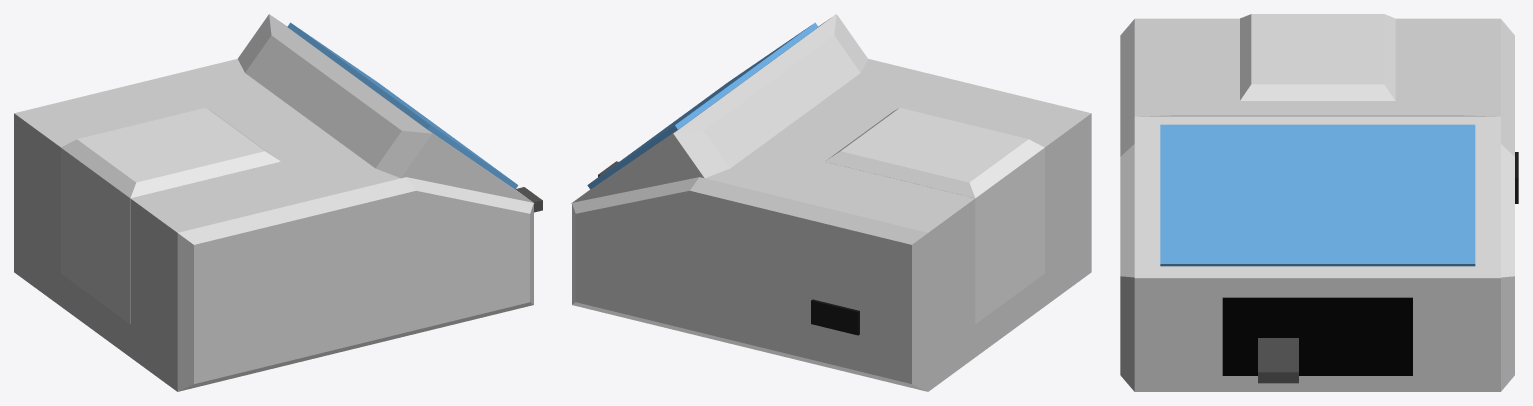
The model's file is Strip Reader.fbx.
The picture shows the model from 3 angles, left to right: view 1: azimuth 30°, elevation 25°; view 2: azimuth 150°, elevation 25°; view 3: azimuth 270°, elevation 25°; orthographic projection. The views are drawn at different scales.
Parts seen in each view (by area): view 1: Cube; view 2: Cube; view 3: Cube.
Boxes of the visible parts, x1,y1,x2,y2 form: Cube: [14, 14, 542, 391]; Cube: [571, 14, 1091, 391]; Cube: [1120, 14, 1518, 391].
Bounding box in the file's own units: 297 × 132 × 217.
